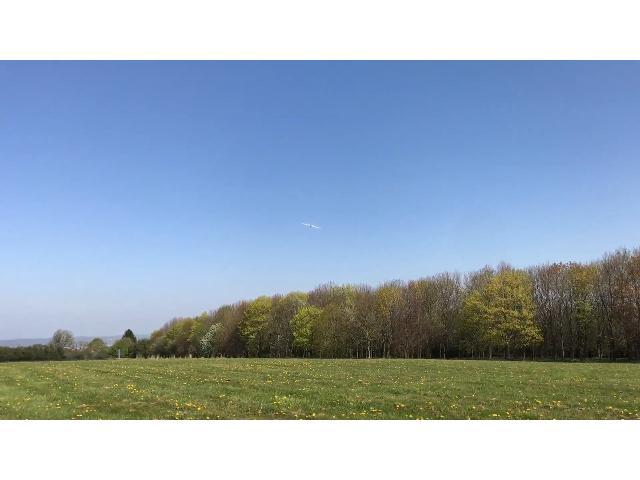Anti-Drone: (296, 215, 328, 235)
